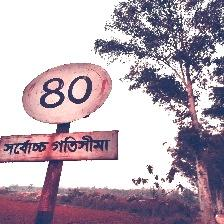Speed-limit: (0, 64, 118, 163)
